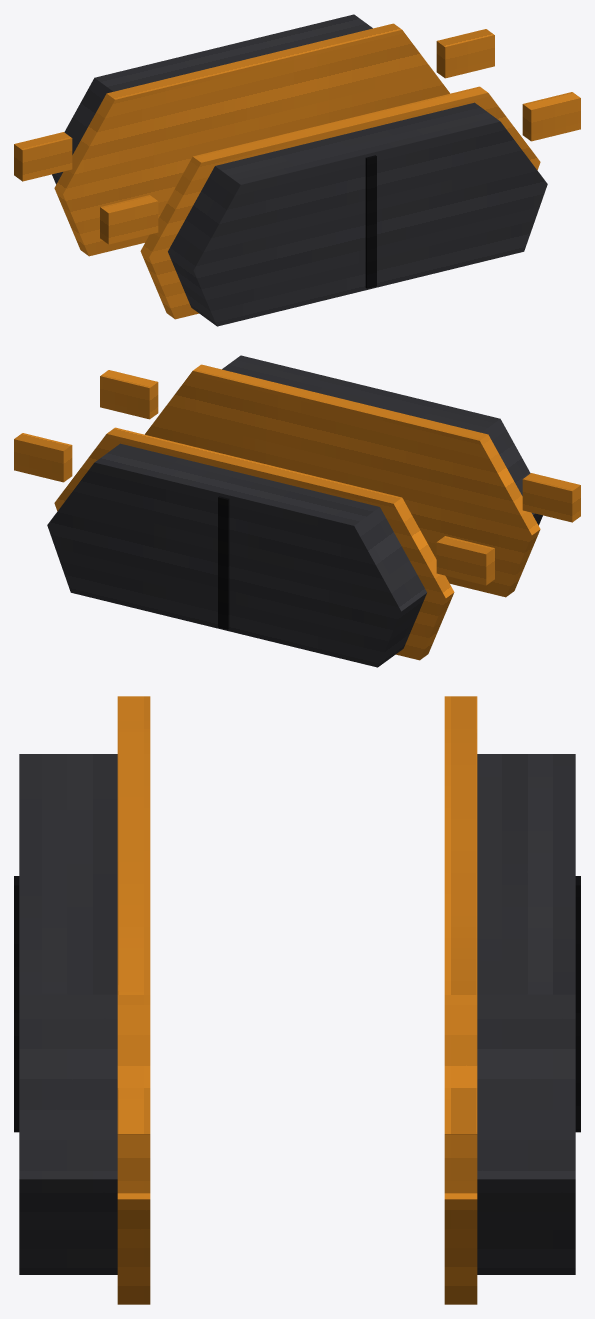
The model's file is pastilhas_n3.glb.
3 views of the same model, one above another, from view 1: azimuth 30°, elevation 25°; view 2: azimuth 150°, elevation 25°; view 3: azimuth 270°, elevation 25° (orthographic). The views are drawn at different scales.
Visible parts, largest first — view 1: pastilhas_n3; view 2: pastilhas_n3; view 3: pastilhas_n3.
Part boxes in pixels (x1,y1,x2,y2): pastilhas_n3: (14,14,580,326); pastilhas_n3: (14,355,580,667); pastilhas_n3: (14,696,580,1304).
Bounding box in the file's own units: 0.19 × 0.0577 × 0.104.
2 materials, 2 textured.
